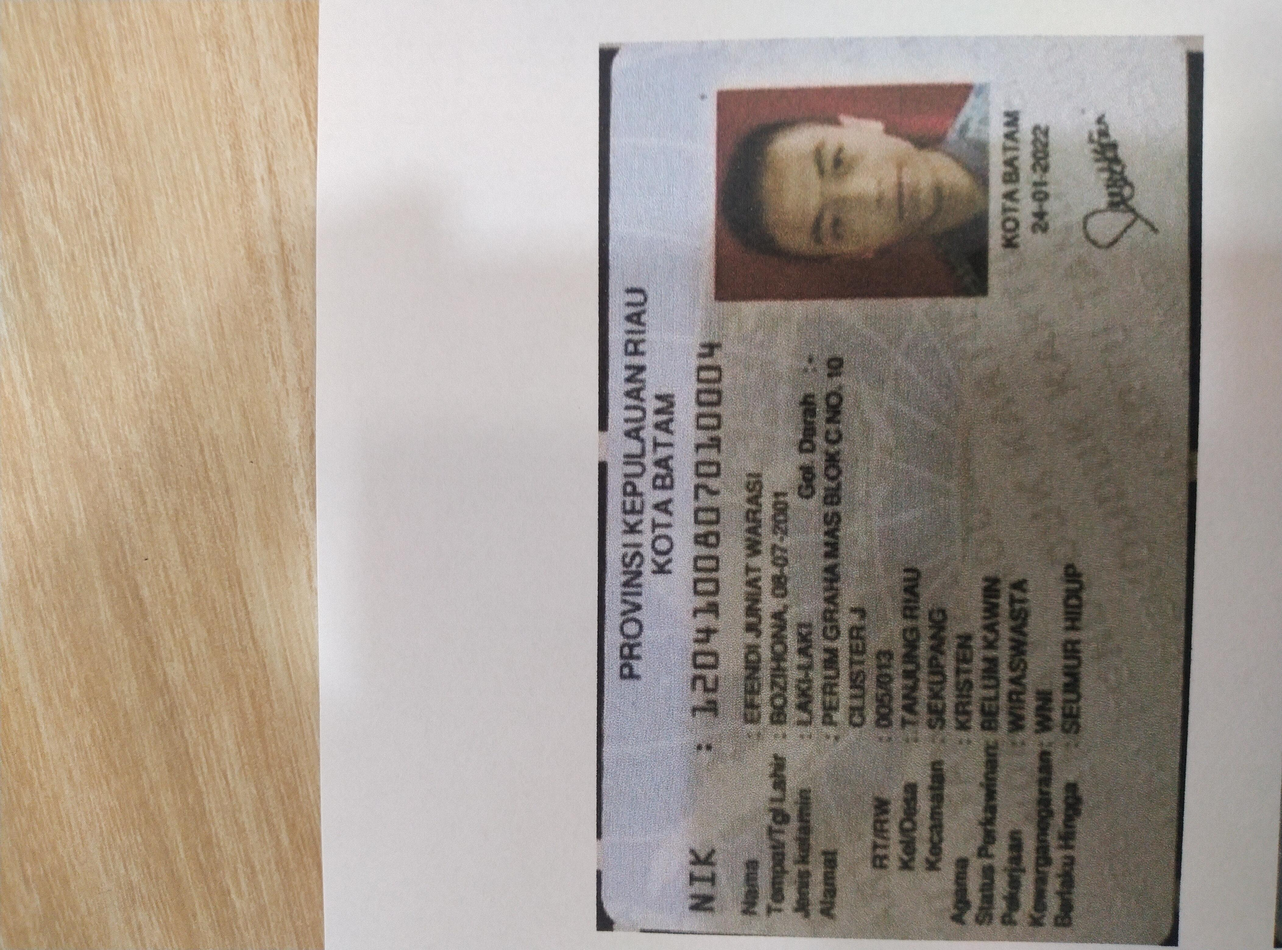ID-card: (4, 452, 1214, 880)
